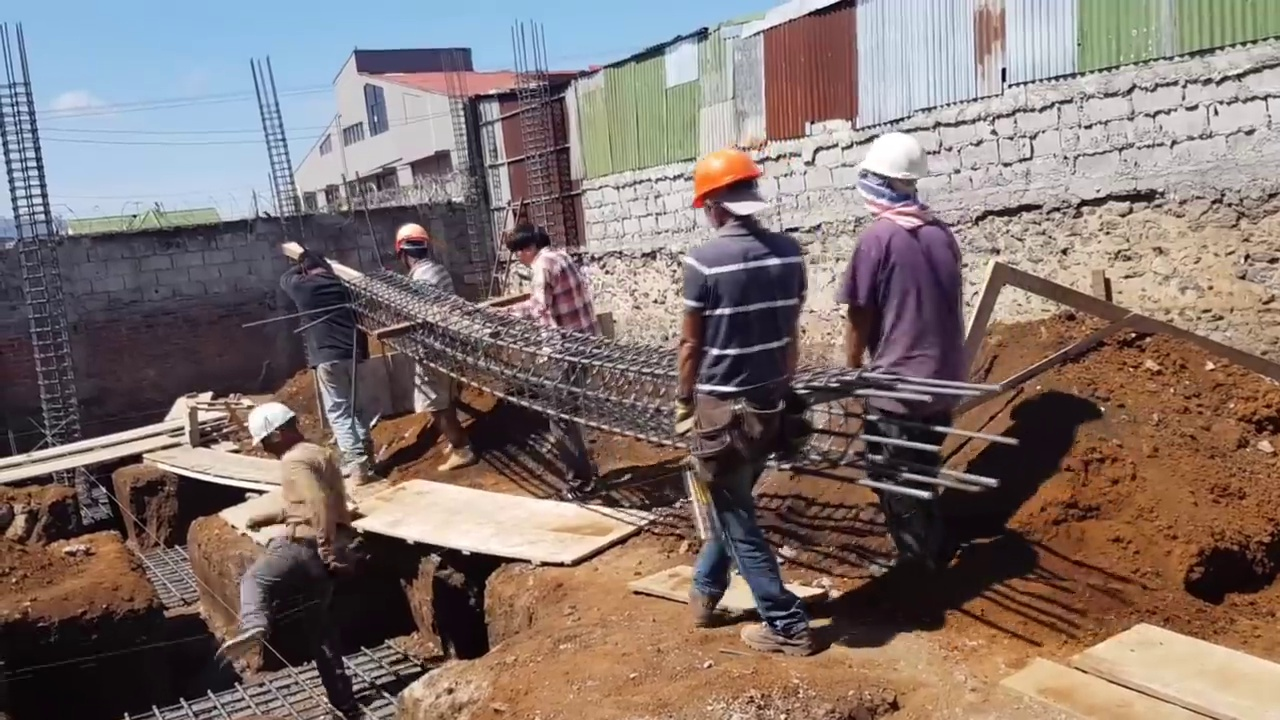helmet: (690, 147, 764, 215), (863, 131, 932, 186), (246, 404, 297, 447), (393, 222, 433, 255)
helmet-off: (497, 215, 549, 274), (293, 249, 333, 277)
helmet-on: (690, 147, 772, 237), (860, 131, 936, 224), (244, 403, 297, 460), (391, 222, 433, 273)
person: (675, 147, 811, 660), (838, 128, 981, 605), (223, 394, 360, 701), (497, 212, 613, 508), (281, 249, 378, 485), (389, 221, 473, 472)
